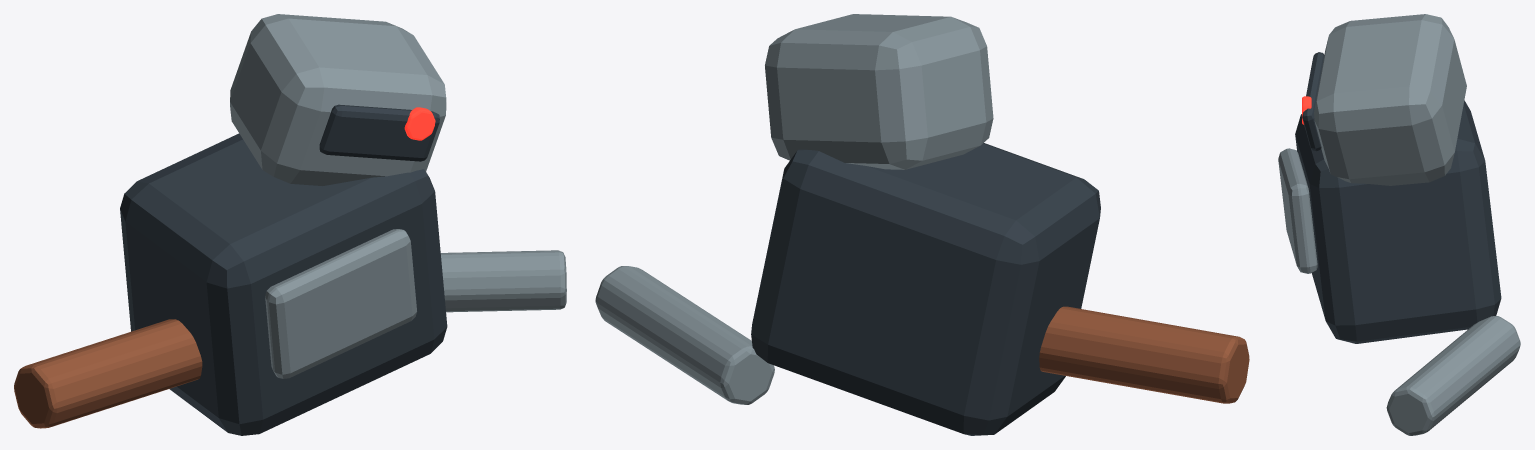
The model's file is Broken-Robot.glb.
3 views of the same model, side by side, from view 1: azimuth 30°, elevation 25°; view 2: azimuth 150°, elevation 25°; view 3: azimuth 270°, elevation 25° (orthographic). The views are drawn at different scales.
Parts seen in each view (by area): view 1: BrokenRobot_Torso, BrokenRobot_Head, BrokenRobot_ChestPlate, BrokenRobot_Arm, BrokenRobot_DetachedArm, BrokenRobot_Face, BrokenRobot_Eye; view 2: BrokenRobot_Torso, BrokenRobot_Head, BrokenRobot_Arm, BrokenRobot_DetachedArm; view 3: BrokenRobot_Torso, BrokenRobot_Head, BrokenRobot_DetachedArm, BrokenRobot_ChestPlate, BrokenRobot_Face.
Boxes of the visible parts, x1=… form: BrokenRobot_Torso: x1=120, y1=133, x2=447, y2=435; BrokenRobot_Head: x1=230, y1=14, x2=446, y2=185; BrokenRobot_ChestPlate: x1=265, y1=229, x2=416, y2=378; BrokenRobot_Arm: x1=14, y1=319, x2=202, y2=428; BrokenRobot_DetachedArm: x1=440, y1=250, x2=566, y2=312; BrokenRobot_Face: x1=319, y1=104, x2=439, y2=161; BrokenRobot_Eye: x1=404, y1=107, x2=435, y2=140; BrokenRobot_Torso: x1=751, y1=143, x2=1100, y2=435; BrokenRobot_Head: x1=765, y1=14, x2=993, y2=169; BrokenRobot_Arm: x1=1039, y1=306, x2=1249, y2=403; BrokenRobot_DetachedArm: x1=595, y1=266, x2=774, y2=404; BrokenRobot_Torso: x1=1295, y1=100, x2=1501, y2=343; BrokenRobot_Head: x1=1314, y1=14, x2=1466, y2=185; BrokenRobot_DetachedArm: x1=1386, y1=316, x2=1520, y2=435; BrokenRobot_ChestPlate: x1=1278, y1=148, x2=1317, y2=273; BrokenRobot_Face: x1=1302, y1=52, x2=1324, y2=151.
Size of the model in its own units: 2.08 by 1.24 by 0.8753.
